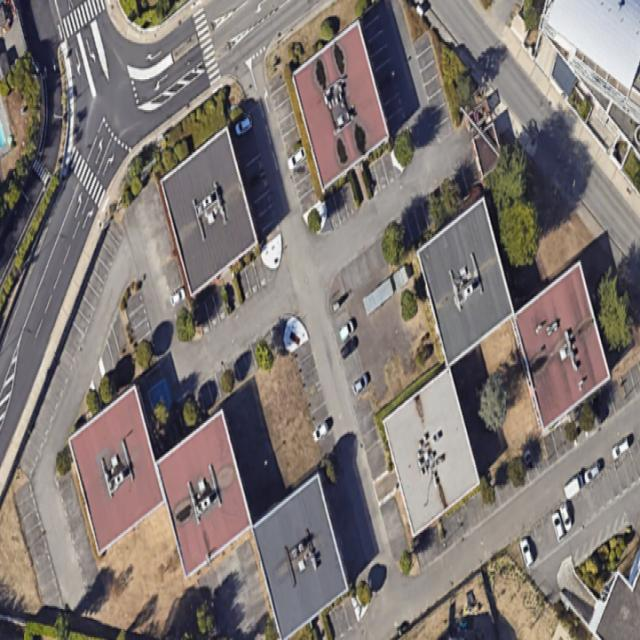immeuble: (148, 127, 267, 297), (280, 22, 398, 192), (501, 262, 618, 429), (408, 197, 522, 365), (373, 369, 487, 536), (242, 474, 355, 638), (147, 411, 257, 578), (60, 385, 168, 553)
